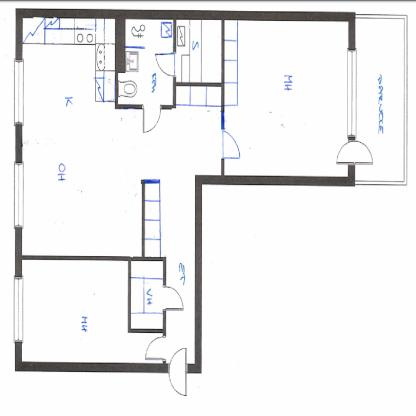door: (168, 348, 189, 400), (337, 141, 373, 168), (140, 105, 165, 134), (220, 130, 242, 160), (164, 286, 185, 316), (154, 52, 176, 77), (144, 336, 166, 360)
window: (347, 48, 356, 138), (14, 59, 23, 125), (14, 162, 23, 227), (14, 278, 23, 340)
zone: (22, 18, 222, 361), (225, 20, 349, 178), (22, 259, 165, 364), (355, 16, 403, 180), (117, 17, 172, 106), (175, 18, 222, 83), (130, 259, 164, 328)
